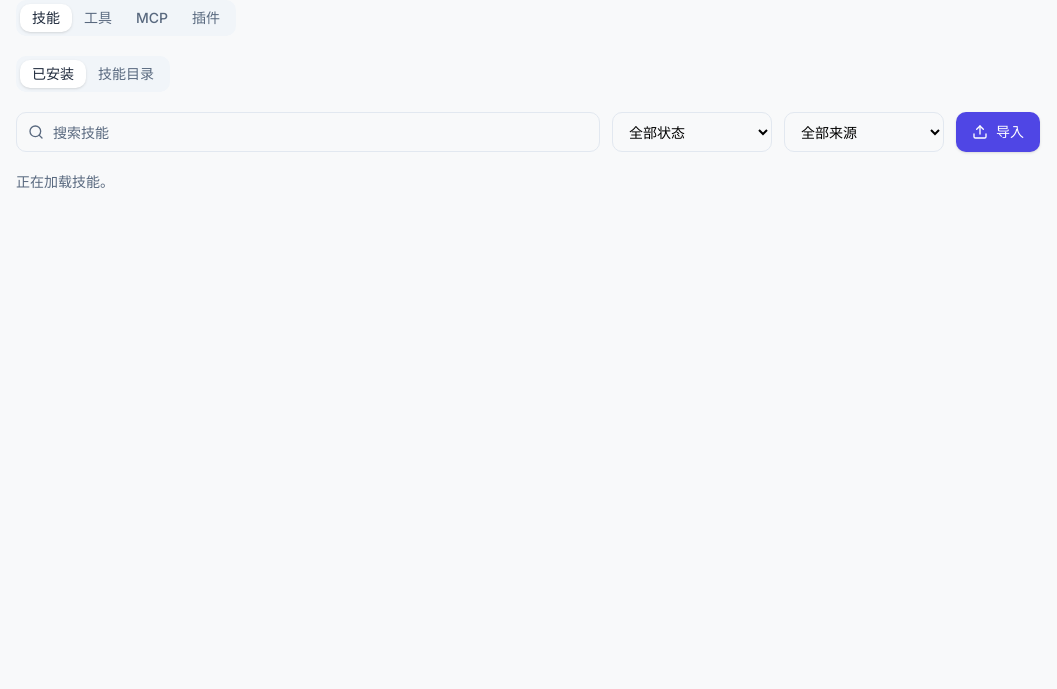
Test case: SkillsPage › shows running catalog install progress on the catalog entry card
The width and height of the screenshot is (1057, 689).
Press the mouse on the tab "技能目录": (126, 74) [86,60,166,88]
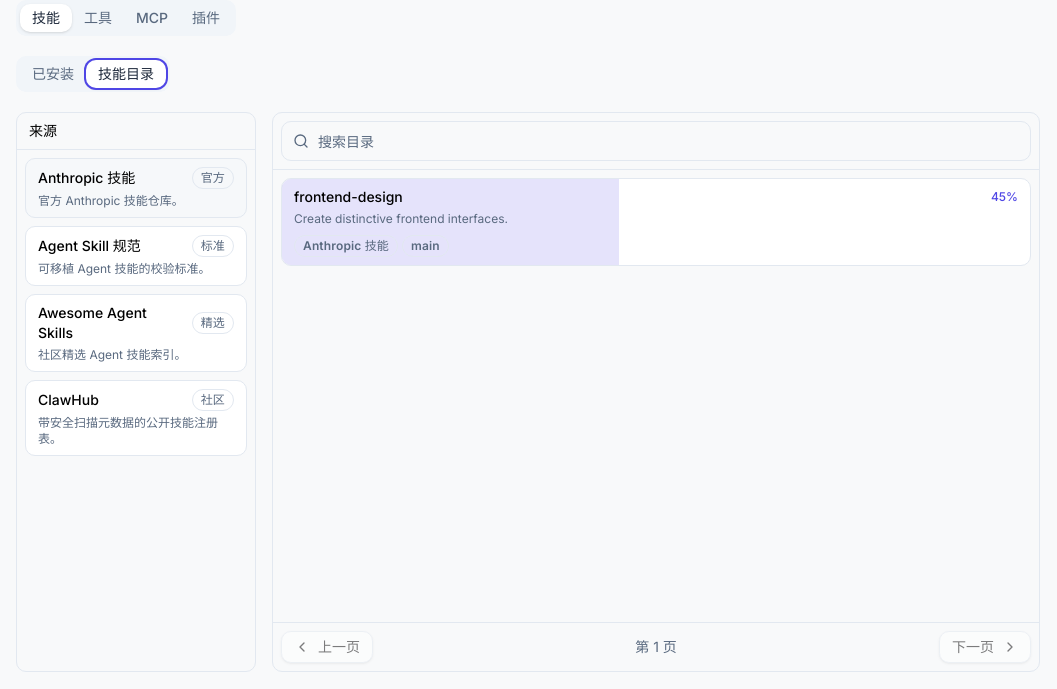
expect the text "45%" is shown: met, box [991,189,1018,205]
